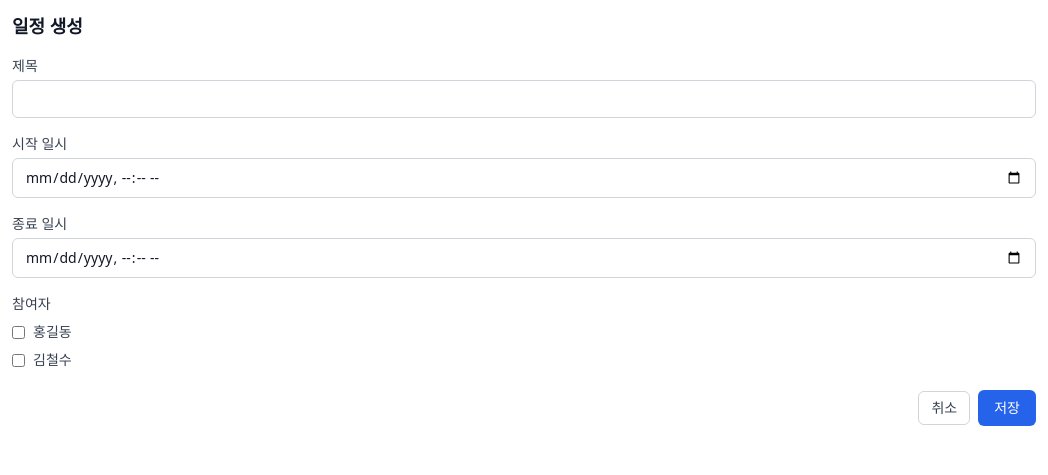
Test case: ScheduleForm - 생성 모드 정상 제출 › createSchedule이 403으로 실패하면 팀장 권한 안내 메시지를 표시한다
In the field labelled "제목": (524, 99) x1=12 y1=80 x2=1036 y2=118, type "주간 회의"
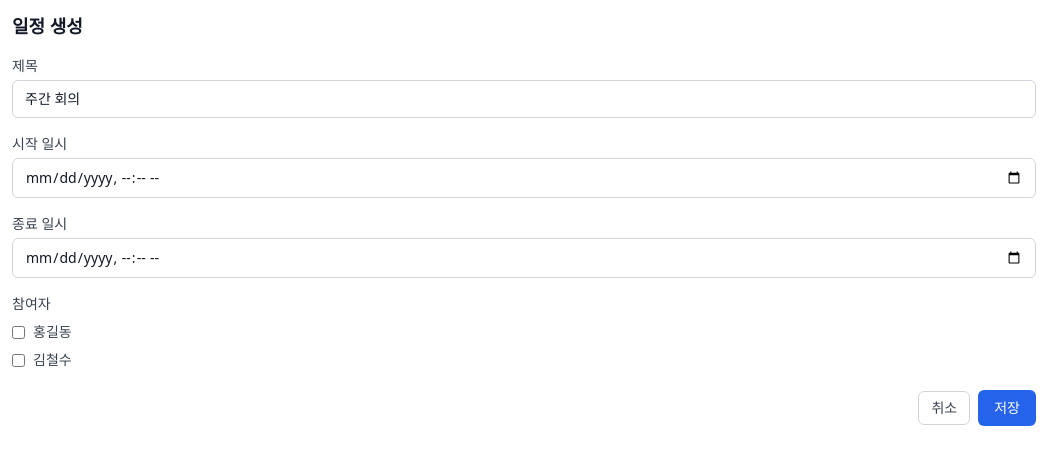
In the field labelled "시작 일시": (524, 178) x1=12 y1=158 x2=1036 y2=198, type "2026-04-15T09:00"
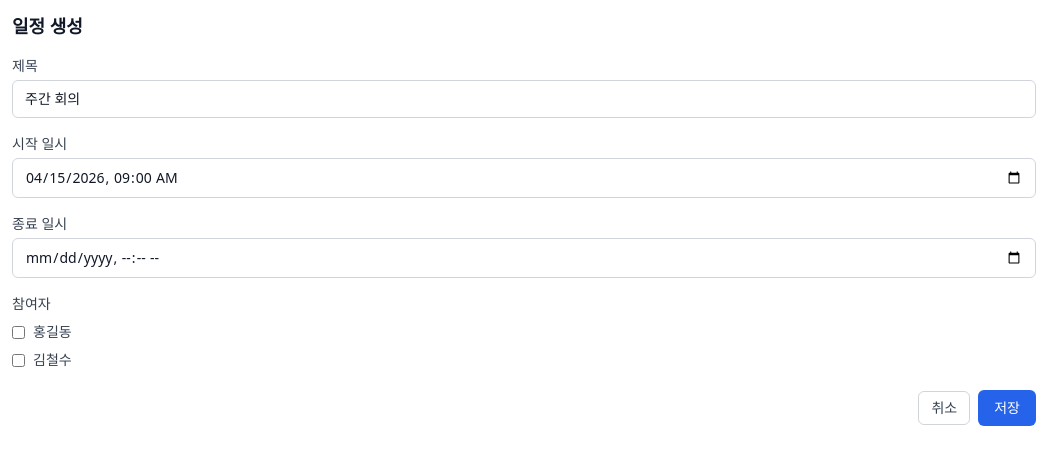
In the field labelled "종료 일시": (524, 258) x1=12 y1=238 x2=1036 y2=278, type "2026-04-15T10:00"
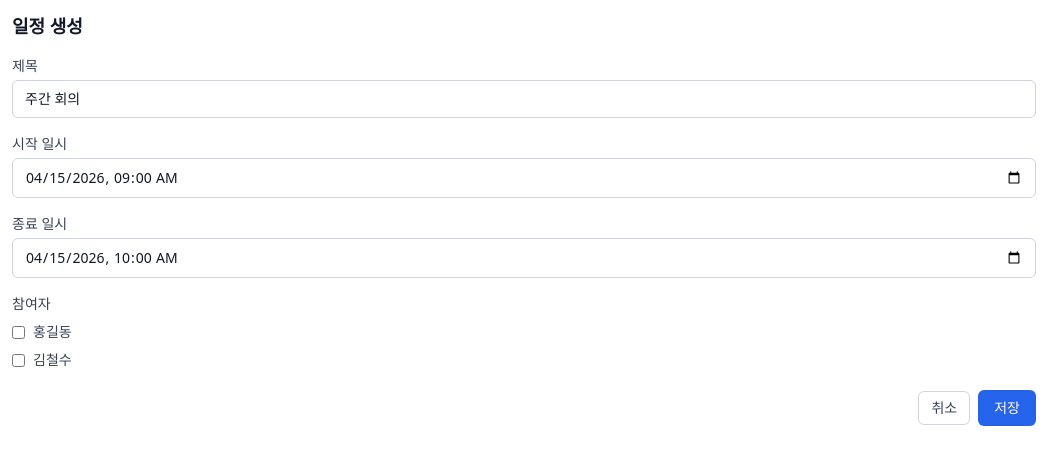
Submit the form
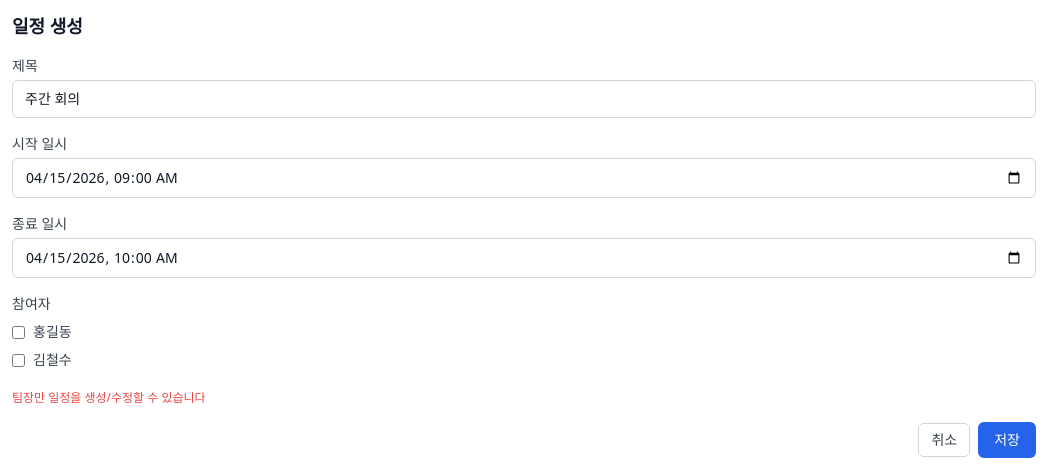
Expected: the text "팀장만 일정을 생성/수정할 수 있습니다" is shown, x1=12 y1=389 x2=206 y2=406
